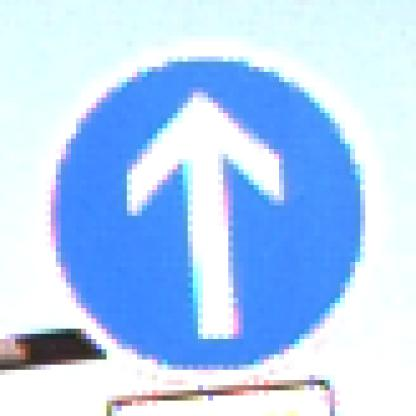AheadOnly: (37, 42, 382, 381)
